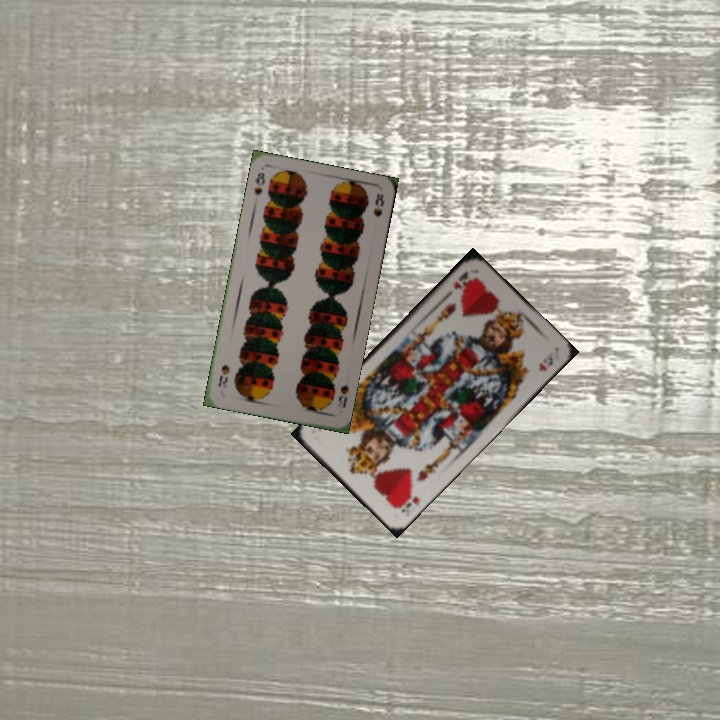HK: (392, 488, 422, 515), (449, 267, 474, 292)
S8: (333, 381, 351, 412), (250, 168, 268, 198)
